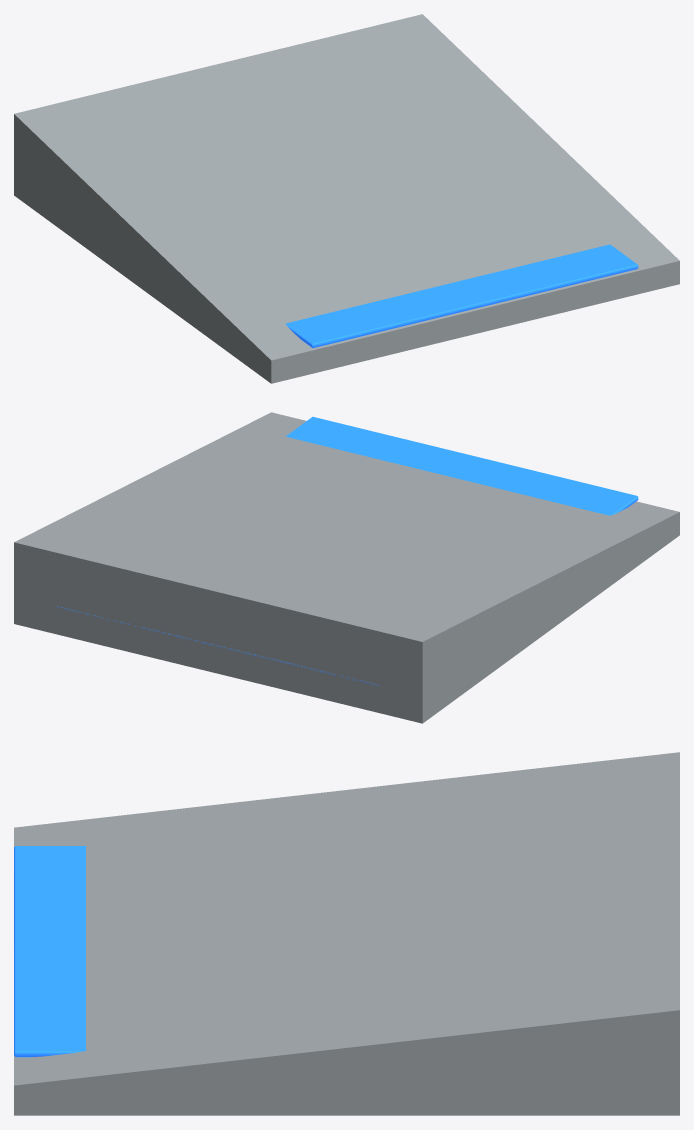
Rendered from Ramp_Low_Wide.fbx.
3 renders of one model, top to bottom at view 1: azimuth 30°, elevation 25°; view 2: azimuth 150°, elevation 25°; view 3: azimuth 270°, elevation 25°, orthographic. The views are drawn at different scales.
Parts seen in each view (by area): view 1: Ramp solid, Top stripe; view 2: Ramp solid, Top stripe; view 3: Ramp solid, Top stripe.
Boxes of the visible parts, box(x1,y1,x2,y2) form: Ramp solid: box(14, 14, 679, 383); Top stripe: box(285, 244, 638, 348); Ramp solid: box(14, 412, 679, 723); Top stripe: box(57, 416, 638, 686); Ramp solid: box(14, 752, 679, 1115); Top stripe: box(14, 846, 85, 1057).
Size of the model in its own units: 220 by 42 by 240.
